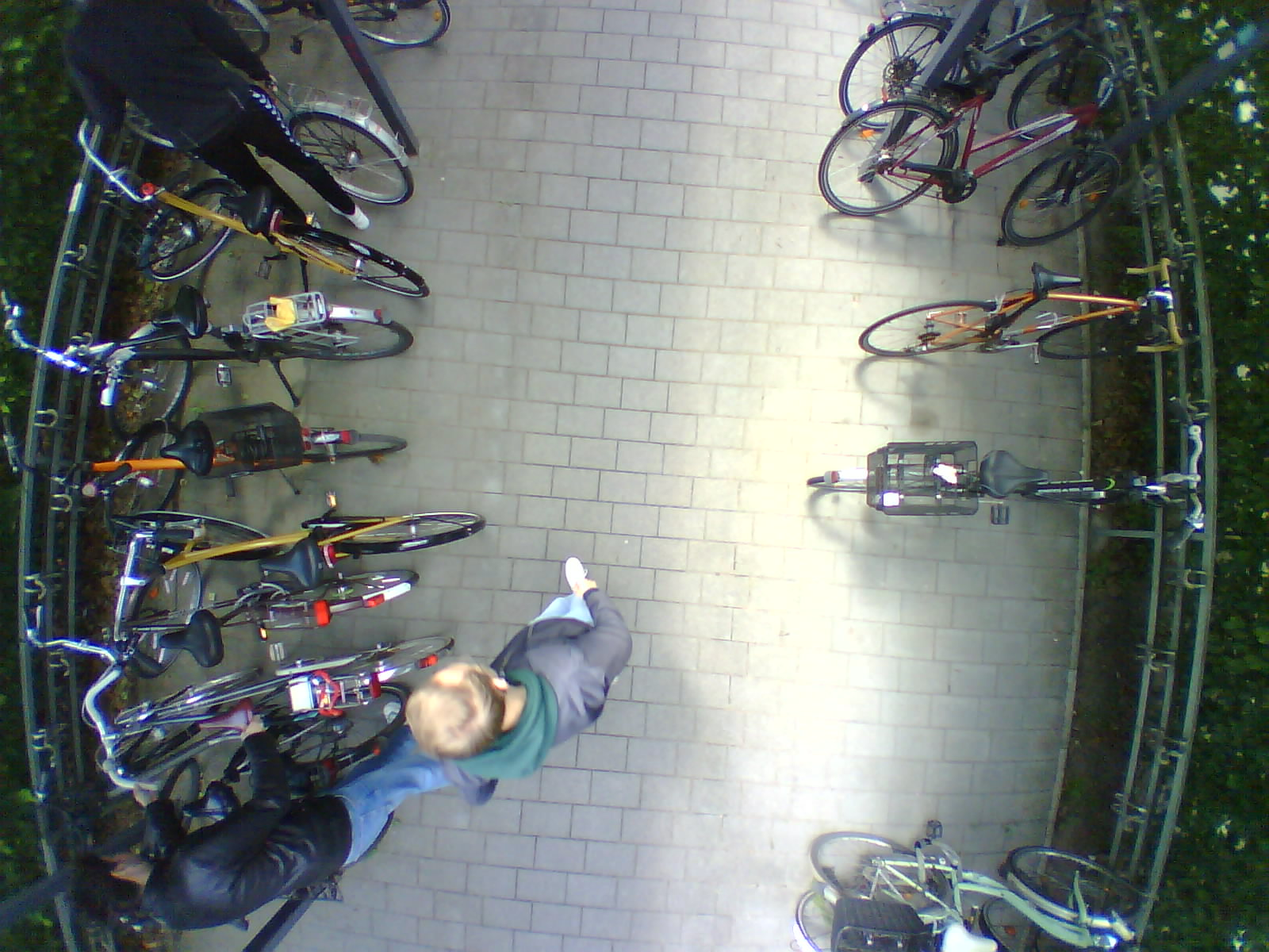bicylce: (817, 52, 1153, 248), (69, 287, 415, 433), (54, 678, 391, 814), (803, 819, 1136, 951), (802, 430, 1183, 545), (132, 160, 433, 301), (98, 502, 487, 605), (836, 0, 1120, 135), (70, 602, 453, 697), (856, 260, 1188, 361), (62, 423, 409, 491)
saddle: (982, 445, 1052, 504), (154, 610, 223, 668), (171, 777, 243, 830), (256, 539, 322, 594), (214, 184, 276, 236), (149, 288, 210, 340), (158, 428, 217, 478), (189, 712, 254, 752), (1028, 263, 1086, 303), (963, 54, 1015, 91), (940, 920, 998, 952)
